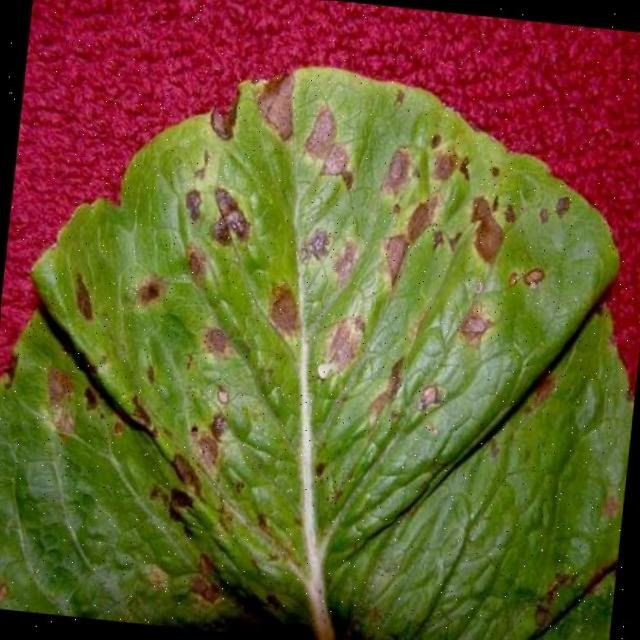Septoria_Blight: (109, 175, 399, 530)
